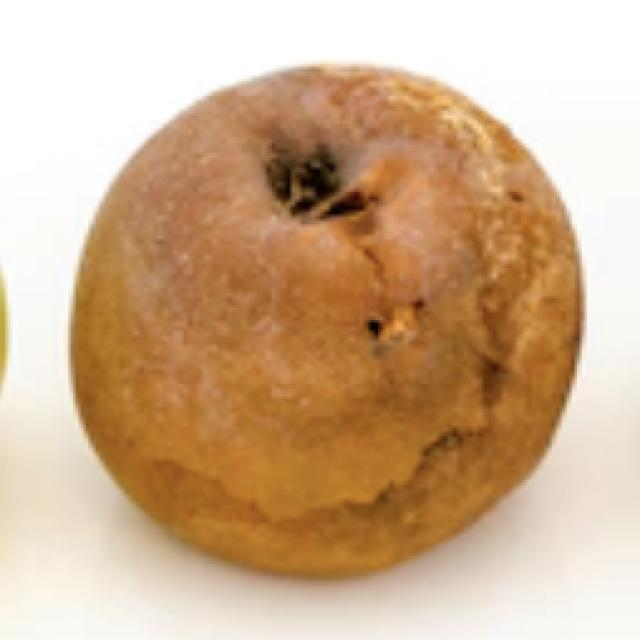Rotten: (100, 78, 572, 572)
